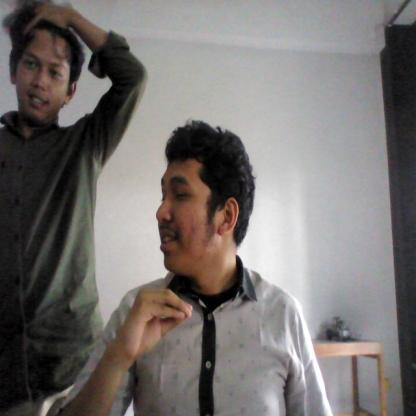Malam: (105, 277, 199, 366)
